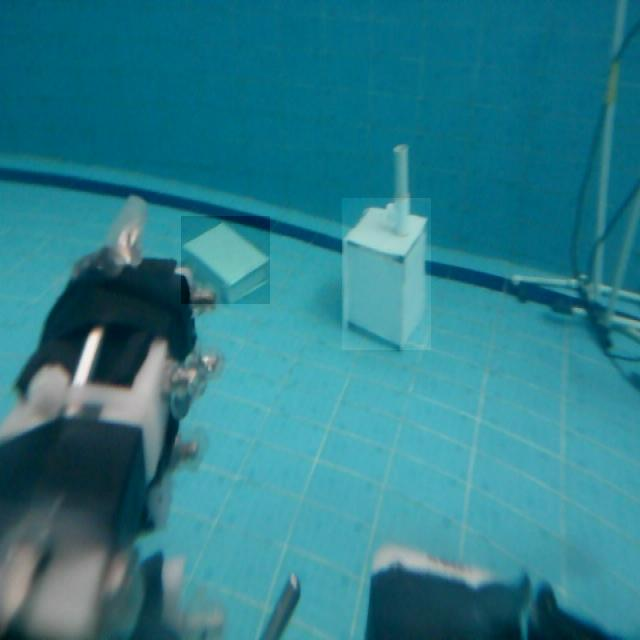Cube: (342, 198, 431, 350)
Cuboid: (181, 216, 270, 304)
